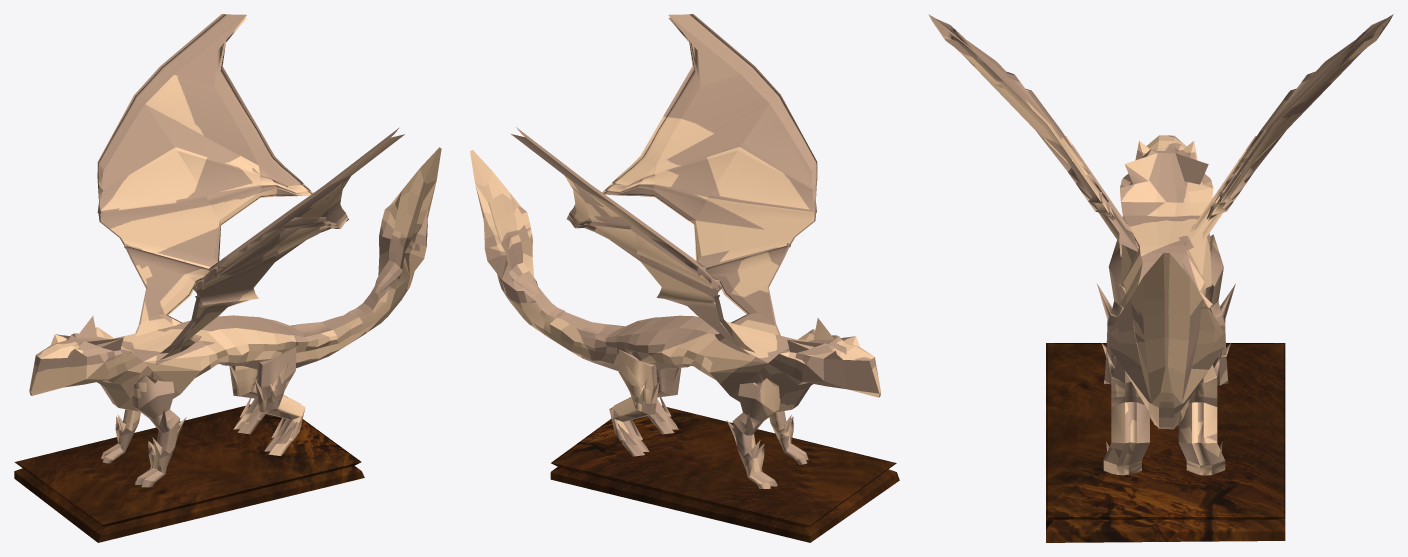
File: dragon.fbx
The picture shows the model from 3 angles, left to right: view 1: azimuth 30°, elevation 25°; view 2: azimuth 150°, elevation 25°; view 3: azimuth 270°, elevation 25°; orthographic projection. The views are drawn at different scales.
Visible parts, largest first — view 1: polySurface278; view 2: polySurface278; view 3: polySurface278.
Part boxes in pixels (left/top/right/bottom): polySurface278: left=14, top=14, right=441, bottom=542; polySurface278: left=470, top=14, right=899, bottom=542; polySurface278: left=928, top=14, right=1393, bottom=542.
Size of the model in its own units: 19.72 by 17.28 by 14.06.
